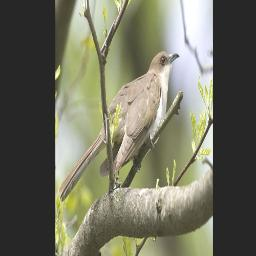Cuckoo: (57, 48, 178, 202)
